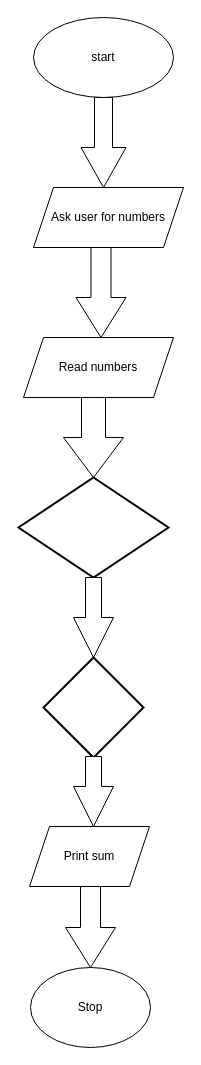
Some shapes in this 201 by 1065 pixel diagram are drawn without their labels. The centre of each missing label's shape, as x and y in pixels:
Compute square of numbers: point (93, 527)
sum square of numbers: point (93, 707)
